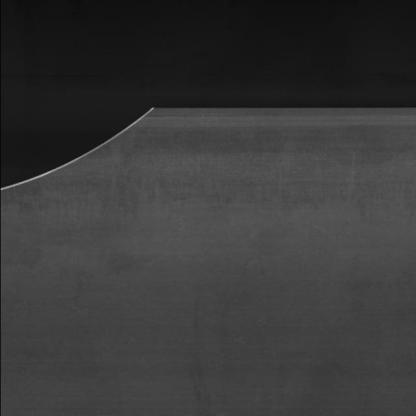crescent_gap: (0, 96, 170, 224)
